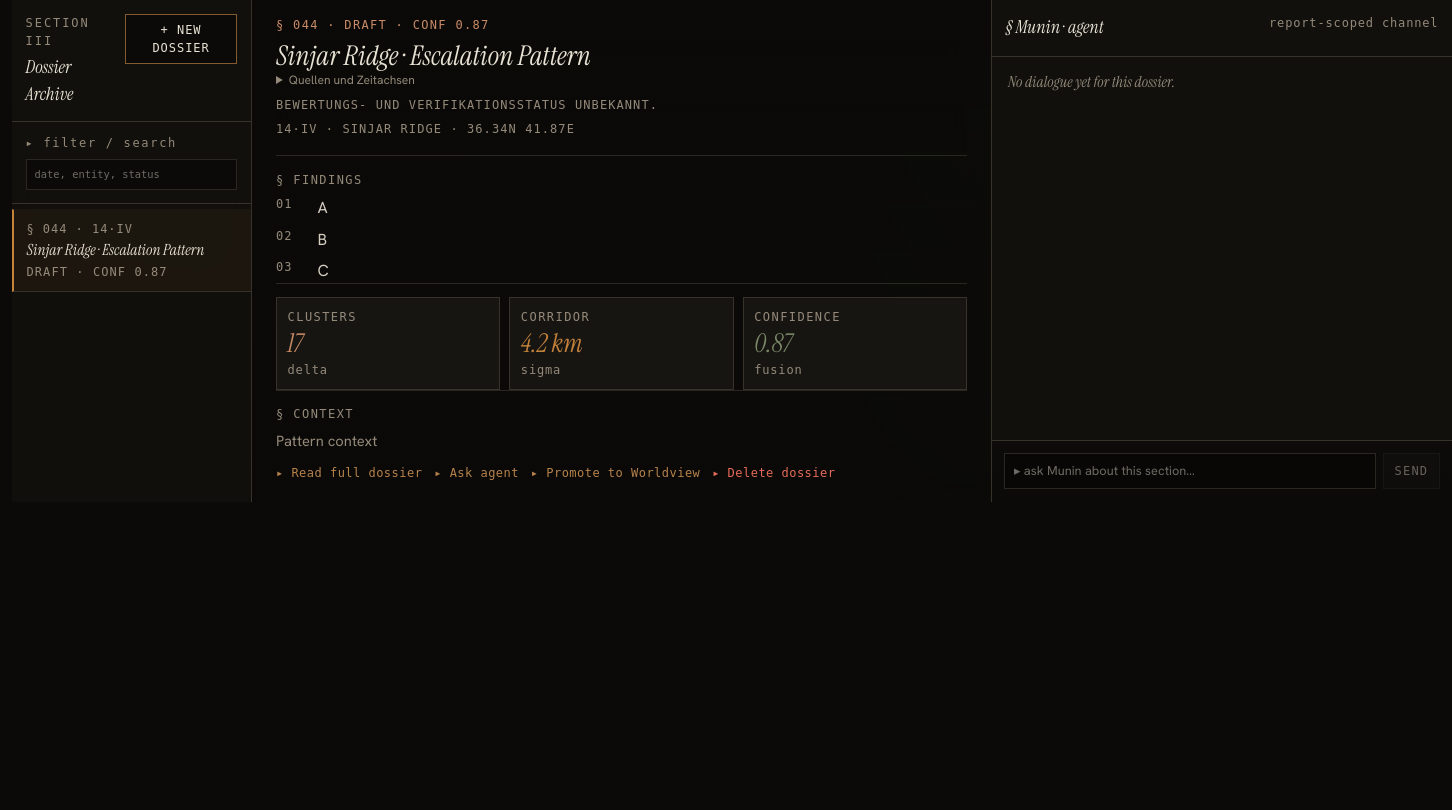
Test: BriefingPage › expands and collapses full dossier body
What coordinates should you click on to do the following:
click the button "▸ Read full dossier"
I would click on:
 (349, 473)
Its box is [276,464,422,482].
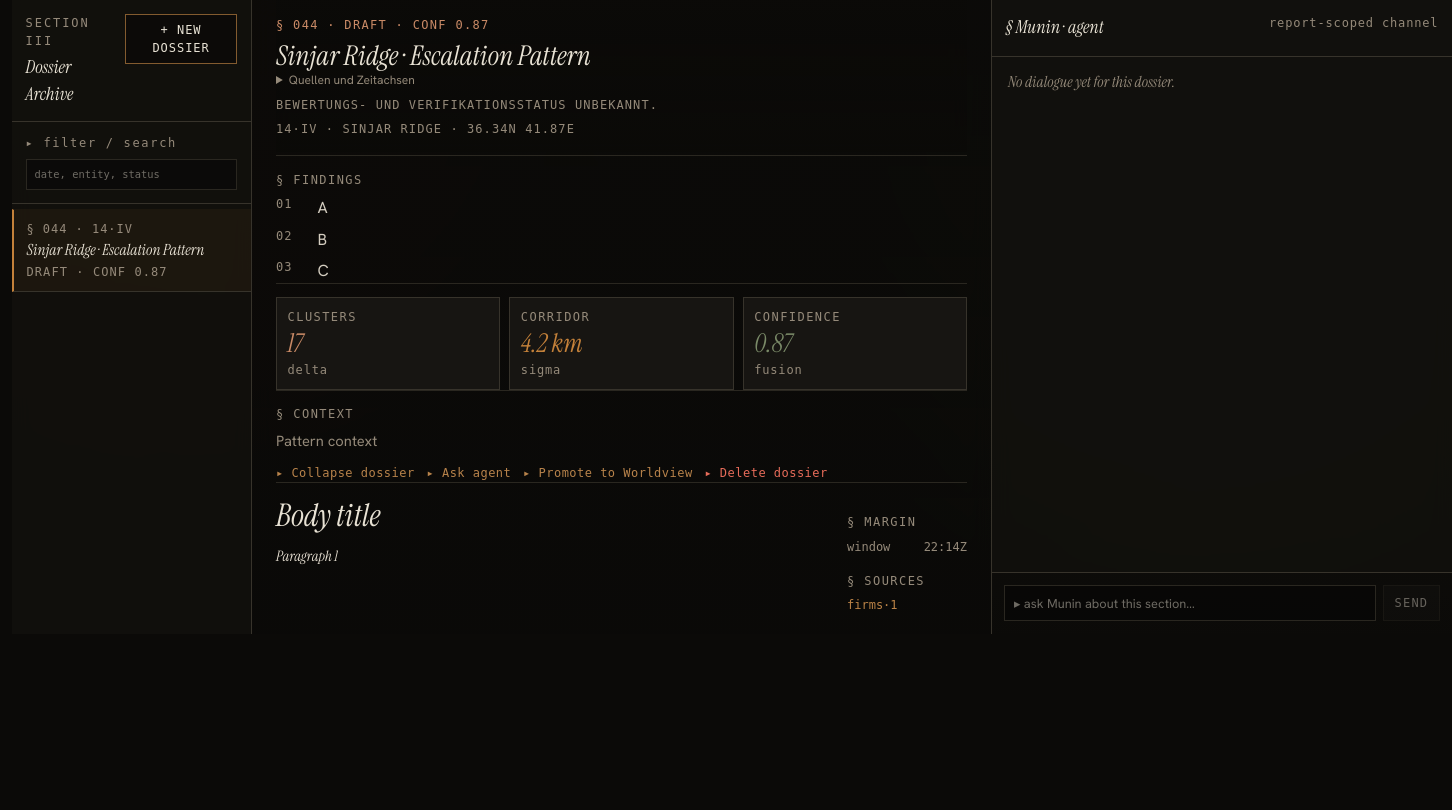
Result: the heading "Body title" is shown at [276,494,380,536]
Result: the button "▸ Collapse dossier" is expanded
What coordinates should you click on to do the following:
click the button "▸ Collapse dossier"
I would click on:
 (345, 473)
Its box is [276,464,415,482].
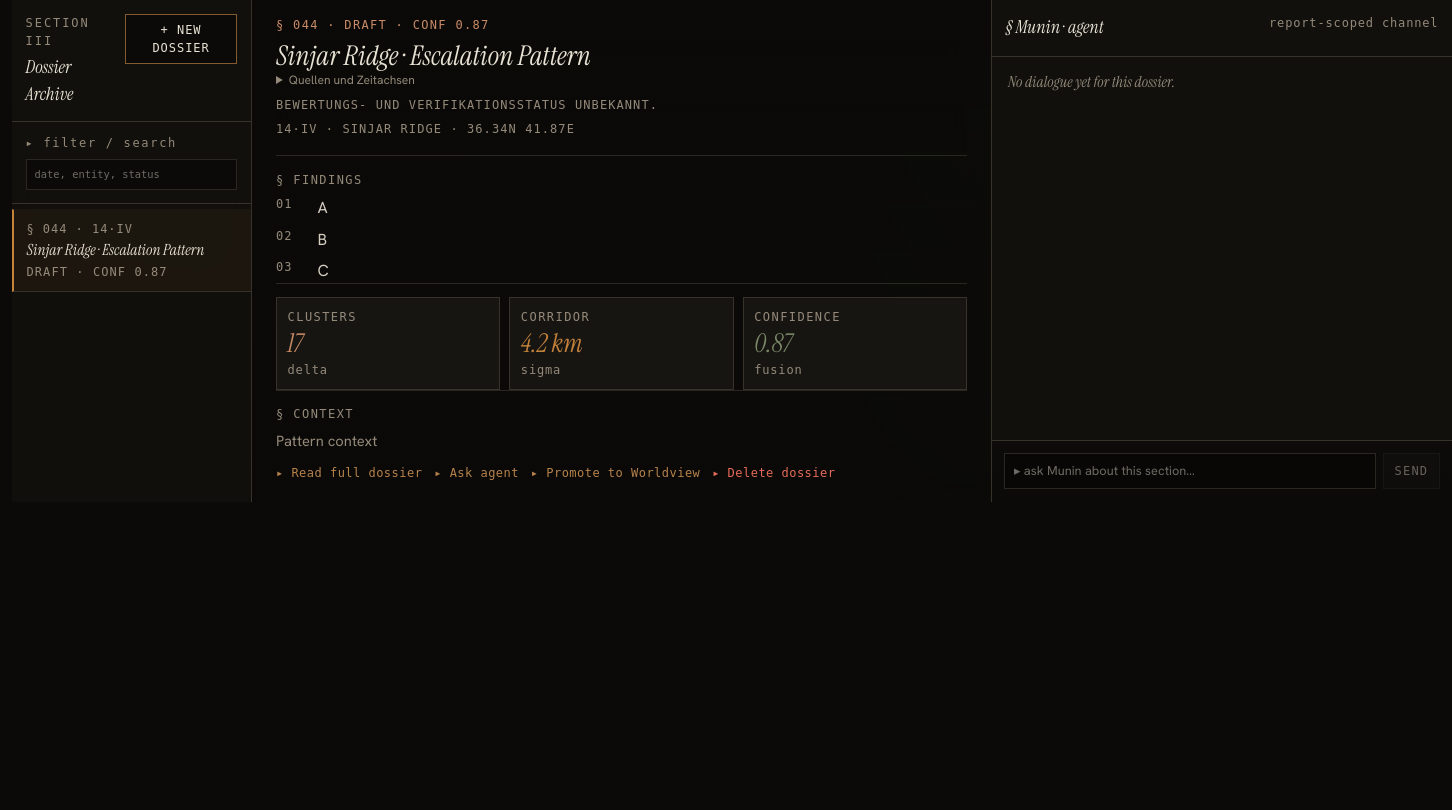
Result: the heading "Body title" is gone
Result: the button "▸ Read full dossier" is collapsed at [276,464,422,482]
